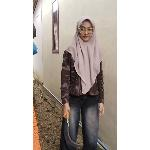Celurit: (60, 107, 86, 150)
